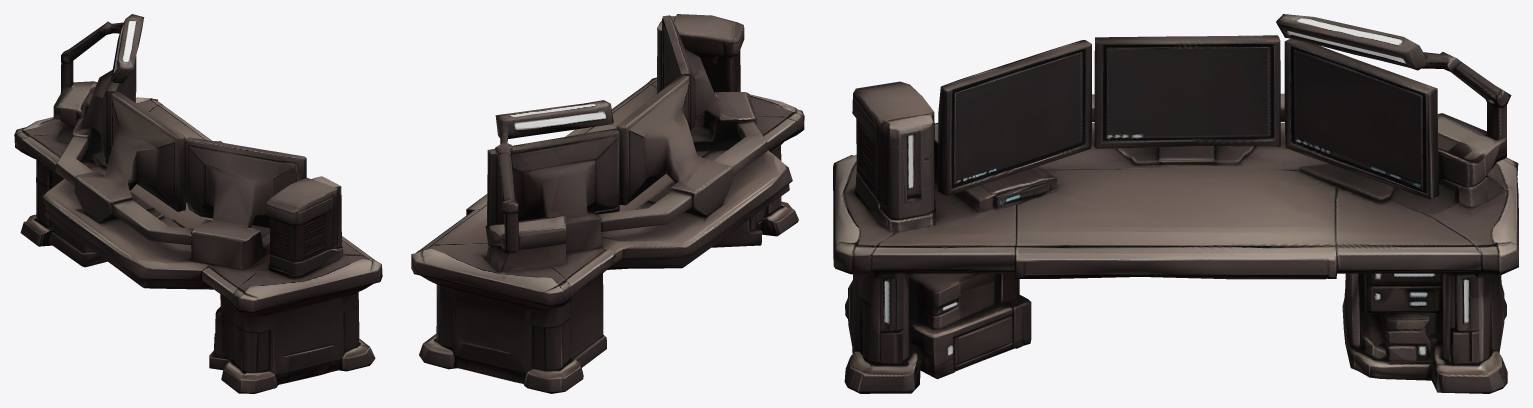
File: research.fbx
3 views of the same model, side by side, from view 1: azimuth 30°, elevation 25°; view 2: azimuth 150°, elevation 25°; view 3: azimuth 270°, elevation 25° (orthographic). The views are drawn at different scales.
Parts seen in each view (by area): view 1: tripo_node_7eee39d0; view 2: tripo_node_7eee39d0; view 3: tripo_node_7eee39d0.
Boxes of the visible parts, x1,y1,x2,y2 form: tripo_node_7eee39d0: [14, 14, 382, 393]; tripo_node_7eee39d0: [411, 14, 804, 393]; tripo_node_7eee39d0: [833, 14, 1518, 393].
Size of the model in its own units: 0.4617 by 0.4956 by 0.9809.
